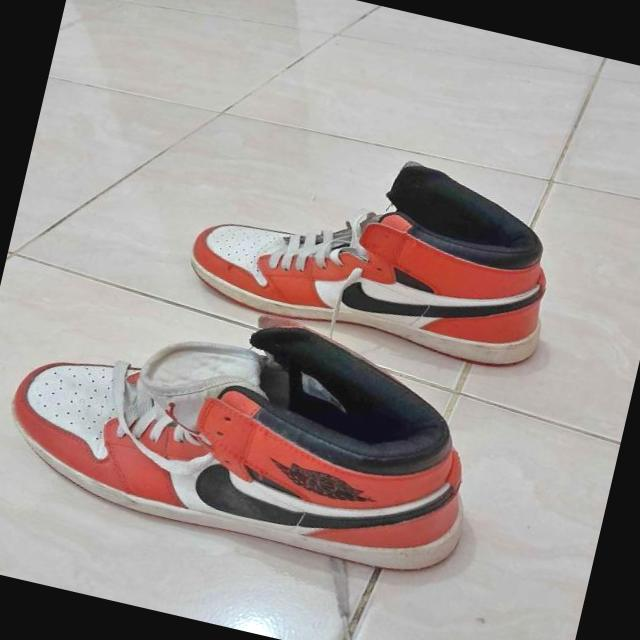nike_fake_jordan: (0, 263, 508, 591), (176, 120, 576, 380)
